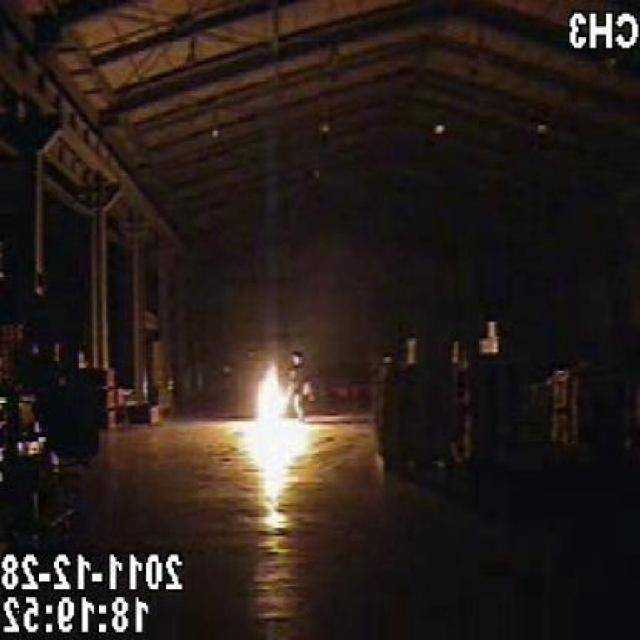smoke: (248, 370, 300, 464)
